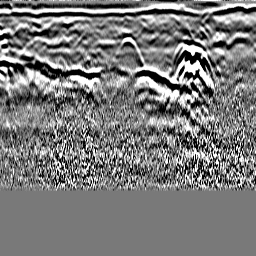cavity: (115, 34, 143, 65)
